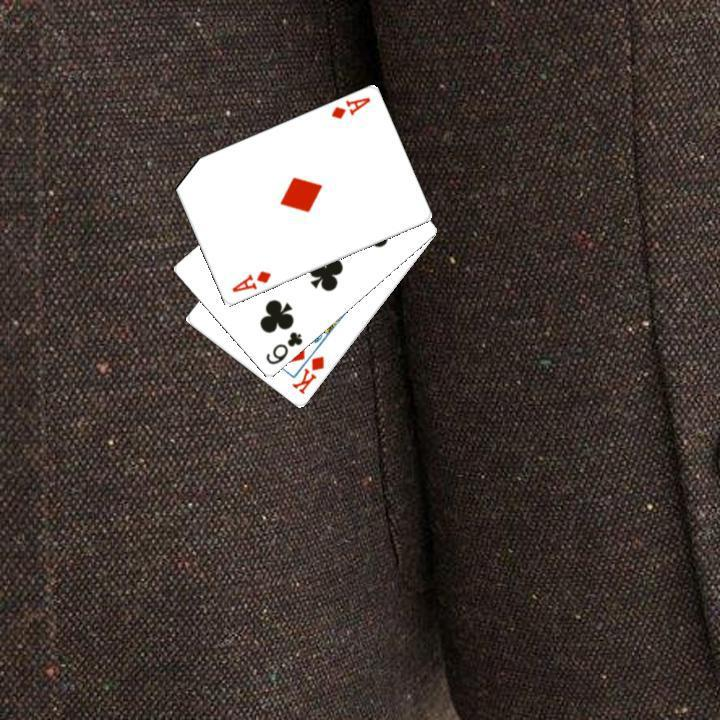6: (261, 327, 305, 367)
A: (227, 267, 273, 295), (327, 93, 372, 121)
K: (287, 352, 326, 396)
